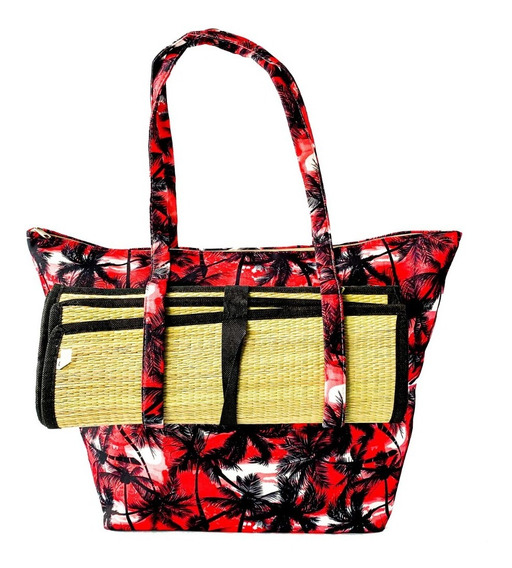cartera: (26, 29, 461, 534)
